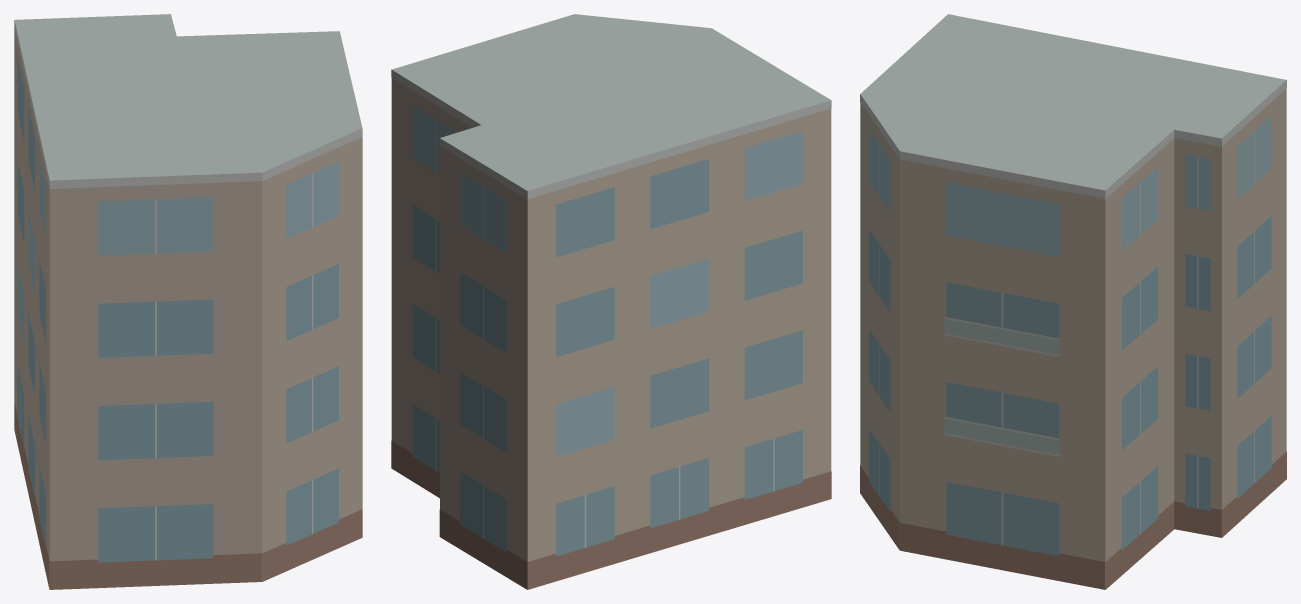
File: survey-upis-32827011.glb
3 renders of one model, left to right at view 1: azimuth 30°, elevation 25°; view 2: azimuth 150°, elevation 25°; view 3: azimuth 270°, elevation 25°, orthographic. The views are drawn at different scales.
Parts seen in each view (by area): view 1: survey-upis-32827011.tmp; view 2: survey-upis-32827011.tmp; view 3: survey-upis-32827011.tmp.
Boxes of the visible parts, <box> form: survey-upis-32827011.tmp: <box>14,14,362,589</box>; survey-upis-32827011.tmp: <box>391,14,831,589</box>; survey-upis-32827011.tmp: <box>860,14,1286,589</box>.
Bounding box in the file's own units: 11.22 × 11.83 × 11.45.
